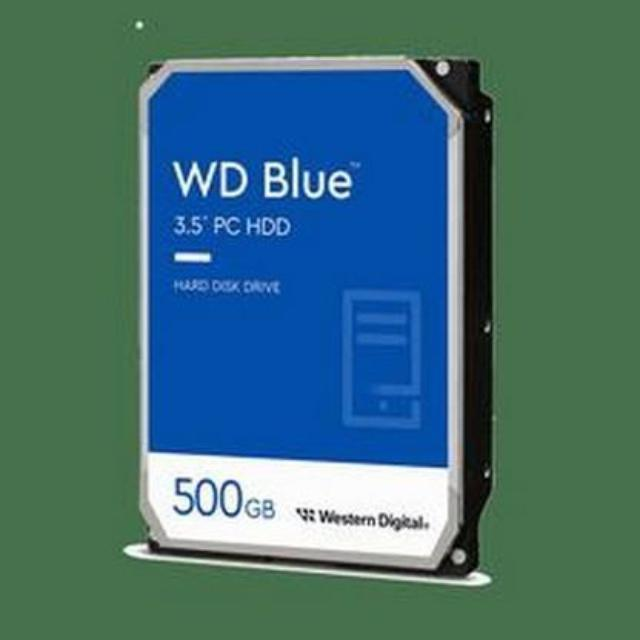DISK: (130, 44, 516, 570)
